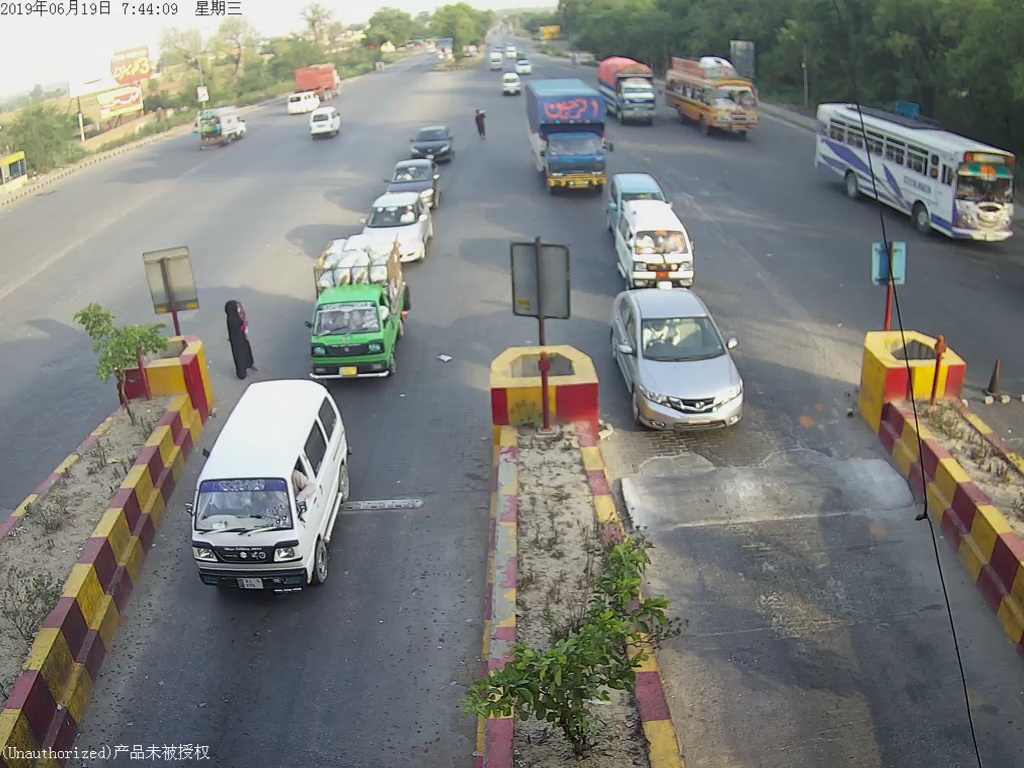Cat-1: (192, 392, 356, 603), (614, 292, 750, 431), (306, 242, 400, 371), (621, 210, 702, 286)
Cat-2: (528, 88, 614, 202)
